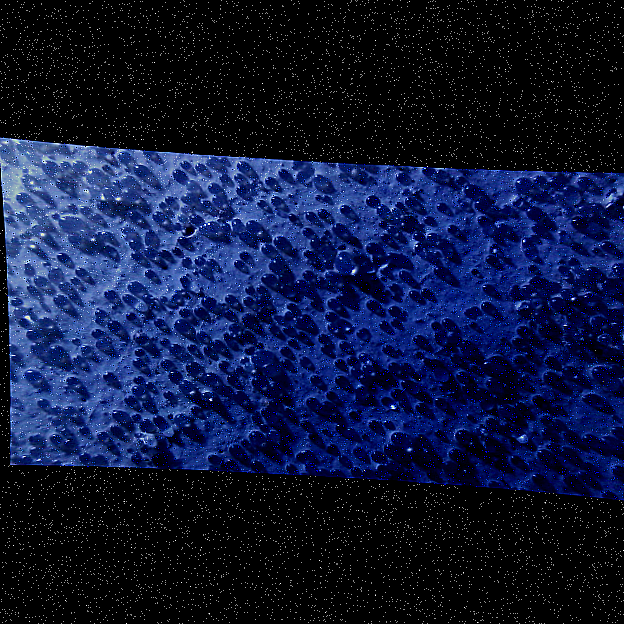GrassBeadSeg: (226, 215, 247, 243), (578, 307, 596, 337), (47, 460, 68, 485), (571, 277, 591, 302), (32, 205, 50, 232), (483, 583, 500, 611), (447, 225, 466, 250), (359, 69, 377, 95), (548, 224, 566, 249), (177, 321, 195, 345), (512, 357, 530, 381), (405, 23, 423, 47), (254, 352, 274, 373), (224, 169, 242, 191), (494, 532, 512, 554), (177, 172, 195, 194), (249, 450, 266, 473), (161, 190, 178, 213), (223, 478, 240, 501), (108, 342, 124, 366), (436, 569, 452, 593), (270, 297, 286, 321), (76, 557, 92, 581), (369, 179, 386, 201), (420, 87, 437, 109), (266, 28, 283, 50), (450, 192, 467, 214), (570, 428, 586, 451), (154, 569, 170, 592), (244, 402, 260, 425), (534, 515, 550, 538), (221, 60, 237, 83), (461, 142, 477, 165), (310, 347, 328, 367), (539, 176, 557, 196), (11, 162, 28, 183), (358, 162, 375, 183), (559, 44, 576, 65), (290, 127, 307, 148), (590, 80, 607, 101), (575, 217, 592, 238), (181, 470, 198, 491), (118, 573, 134, 595), (205, 139, 221, 161), (590, 597, 605, 620), (432, 333, 449, 353), (340, 449, 356, 470), (481, 300, 497, 321), (238, 434, 253, 456), (237, 63, 252, 85), (549, 328, 566, 347), (240, 160, 257, 179), (392, 228, 409, 247), (103, 598, 119, 618), (504, 214, 520, 234), (237, 376, 253, 396), (299, 335, 315, 355), (216, 293, 232, 313), (427, 267, 443, 287), (298, 308, 313, 329), (87, 266, 102, 287), (539, 595, 554, 616), (307, 483, 322, 504), (127, 9, 142, 30), (341, 542, 355, 564), (537, 97, 551, 119), (416, 281, 432, 300), (299, 389, 315, 408), (495, 401, 511, 420), (163, 526, 179, 545), (382, 271, 397, 291), (110, 486, 125, 506), (413, 51, 428, 71), (39, 311, 54, 331), (35, 568, 50, 588), (154, 153, 169, 173), (519, 104, 534, 124), (522, 227, 537, 247), (217, 596, 231, 617), (498, 330, 512, 351), (152, 275, 166, 296), (529, 578, 543, 599), (504, 246, 520, 264), (268, 370, 284, 388), (496, 60, 509, 82), (338, 336, 353, 355), (85, 328, 100, 347), (382, 138, 397, 157), (405, 410, 420, 429), (581, 146, 596, 165), (398, 476, 413, 495), (62, 576, 77, 595), (291, 580, 306, 599), (555, 294, 570, 313), (350, 524, 365, 543), (149, 90, 164, 109), (203, 274, 217, 294), (422, 204, 436, 224), (133, 486, 147, 506), (113, 243, 127, 263), (376, 509, 390, 529), (110, 140, 123, 161), (91, 90, 104, 111), (146, 225, 159, 246), (137, 194, 150, 215), (522, 380, 538, 397), (448, 346, 463, 364), (410, 309, 425, 327), (428, 184, 443, 202), (596, 355, 610, 374), (447, 515, 461, 534), (170, 303, 184, 322), (188, 551, 202, 570), (497, 503, 511, 522), (198, 303, 212, 322), (501, 307, 515, 326), (466, 500, 480, 519), (446, 544, 460, 563), (357, 214, 370, 234), (315, 607, 331, 623), (144, 175, 159, 192), (280, 507, 295, 524), (370, 400, 384, 418), (22, 348, 36, 366), (243, 571, 257, 589), (490, 17, 504, 35), (179, 518, 193, 536), (201, 35, 215, 53), (400, 151, 414, 169), (55, 433, 69, 451), (108, 556, 122, 574), (110, 432, 124, 450), (379, 545, 393, 563), (241, 130, 255, 148), (515, 74, 529, 92), (539, 541, 553, 559), (351, 51, 363, 72), (201, 332, 214, 351), (110, 197, 123, 216), (488, 382, 501, 401), (454, 440, 468, 457), (169, 487, 183, 504), (477, 279, 491, 296), (252, 235, 266, 252), (124, 417, 138, 434), (221, 8, 235, 25), (591, 332, 605, 349), (43, 396, 56, 414), (293, 514, 306, 532), (451, 381, 464, 399), (418, 495, 431, 513), (277, 390, 290, 408), (336, 99, 349, 117), (46, 538, 59, 556), (295, 47, 308, 65), (254, 381, 267, 399), (15, 42, 28, 60), (189, 605, 202, 623), (168, 552, 181, 570), (339, 36, 350, 57), (277, 136, 289, 155), (22, 446, 34, 465), (418, 240, 430, 259), (11, 504, 23, 523), (72, 253, 87, 268), (187, 243, 201, 259), (268, 268, 282, 284), (448, 120, 462, 136), (192, 529, 206, 545), (595, 0, 609, 16), (105, 288, 118, 305), (278, 476, 291, 493), (306, 184, 319, 201), (408, 538, 421, 555), (218, 331, 231, 348), (248, 534, 261, 551), (156, 302, 169, 319), (25, 270, 38, 287), (285, 454, 298, 471), (215, 550, 228, 567), (526, 276, 539, 293), (493, 170, 506, 187), (232, 333, 245, 350), (546, 426, 559, 443), (518, 23, 531, 40), (299, 289, 312, 306), (60, 370, 72, 388), (60, 8, 72, 26), (259, 307, 271, 325), (290, 266, 304, 281), (256, 279, 270, 294), (524, 315, 538, 330), (598, 474, 612, 489), (560, 406, 574, 421), (333, 371, 344, 390), (318, 222, 329, 241), (333, 208, 344, 227), (349, 200, 360, 219), (281, 184, 294, 200), (500, 599, 513, 615), (210, 405, 223, 421), (559, 477, 572, 493), (83, 504, 96, 520), (253, 212, 266, 228), (427, 592, 440, 608), (381, 79, 394, 95), (16, 20, 29, 36), (396, 607, 409, 623), (216, 460, 229, 476), (216, 422, 228, 439), (257, 589, 269, 606), (392, 367, 404, 384), (601, 390, 613, 407), (321, 46, 333, 63), (63, 218, 75, 235), (271, 92, 283, 109), (361, 486, 373, 503), (574, 11, 586, 28), (172, 258, 184, 275), (478, 245, 490, 262), (391, 10, 403, 27), (316, 522, 326, 542), (345, 362, 356, 380), (360, 327, 371, 345), (311, 253, 322, 271), (352, 250, 363, 268), (330, 231, 341, 249), (350, 147, 361, 165), (312, 420, 323, 438), (0, 306, 13, 321), (586, 485, 599, 500), (241, 280, 254, 295), (102, 325, 115, 340), (132, 279, 144, 295), (157, 443, 169, 459), (50, 157, 62, 173), (361, 304, 373, 320), (102, 125, 114, 141), (55, 199, 67, 215), (600, 515, 612, 531), (51, 575, 63, 591), (527, 539, 539, 555), (290, 380, 302, 396), (216, 266, 228, 282), (293, 246, 305, 262), (75, 432, 87, 448), (397, 511, 408, 528), (200, 476, 211, 493), (386, 479, 398, 494), (279, 433, 291, 448), (318, 118, 330, 133), (499, 132, 511, 147), (532, 474, 544, 489), (112, 410, 124, 425), (521, 428, 533, 443), (123, 325, 135, 340), (83, 168, 94, 184), (23, 112, 34, 128), (351, 299, 362, 315), (305, 89, 316, 105), (165, 110, 176, 126), (87, 445, 98, 461), (297, 152, 307, 169), (214, 577, 227, 590), (111, 165, 123, 179), (200, 574, 212, 588), (353, 407, 365, 421), (487, 255, 499, 269), (264, 503, 275, 518), (220, 355, 231, 370), (591, 165, 602, 180), (307, 218, 318, 233), (7, 268, 18, 283), (409, 604, 420, 619), (162, 507, 173, 522), (15, 333, 26, 348), (604, 20, 615, 35), (108, 11, 119, 26), (109, 529, 120, 544), (174, 405, 184, 421), (371, 219, 381, 235), (321, 205, 331, 221), (554, 101, 564, 117), (234, 112, 244, 128), (47, 99, 57, 115), (140, 137, 150, 153), (201, 173, 211, 189), (163, 594, 173, 610), (15, 244, 25, 260), (79, 235, 89, 251), (129, 88, 139, 104), (260, 255, 272, 268), (8, 475, 20, 488), (261, 327, 272, 341), (493, 428, 504, 442), (272, 220, 283, 234), (354, 475, 365, 489), (351, 103, 362, 117), (254, 118, 265, 132), (60, 63, 71, 77), (429, 548, 440, 562), (510, 157, 521, 171), (5, 289, 16, 303), (279, 68, 288, 85), (74, 8, 83, 25), (35, 44, 44, 61), (120, 116, 129, 133), (194, 201, 203, 218), (68, 492, 78, 507), (388, 456, 398, 471), (471, 540, 481, 555), (580, 110, 590, 125), (563, 123, 573, 138), (516, 597, 526, 612), (616, 165, 624, 183), (319, 6, 328, 22), (182, 16, 191, 32), (77, 52, 86, 68), (118, 79, 127, 95), (436, 310, 447, 323), (139, 418, 150, 431), (598, 557, 608, 571), (589, 466, 599, 480), (615, 426, 624, 441), (552, 1, 561, 16), (608, 244, 617, 259), (528, 337, 537, 352), (593, 113, 604, 125), (43, 346, 54, 358), (3, 424, 13, 437), (287, 415, 297, 428), (67, 451, 77, 464), (616, 72, 624, 88), (501, 108, 510, 122), (536, 51, 545, 65), (455, 42, 464, 56), (1, 197, 10, 211), (532, 216, 541, 230), (615, 326, 624, 340), (55, 355, 65, 367), (449, 83, 457, 98), (426, 18, 434, 33), (19, 220, 27, 235), (405, 288, 413, 303), (545, 377, 553, 392), (159, 491, 167, 505), (390, 51, 398, 65), (450, 0, 458, 14), (532, 32, 540, 46), (472, 51, 480, 65), (286, 1, 294, 15), (257, 7, 265, 21), (199, 11, 207, 25), (48, 38, 56, 52), (8, 6, 16, 20), (122, 154, 130, 168), (184, 129, 192, 143), (138, 242, 146, 256), (114, 219, 122, 233), (139, 327, 147, 341), (178, 387, 186, 401), (186, 405, 194, 419), (126, 378, 134, 392), (78, 481, 86, 495), (211, 486, 219, 500), (236, 528, 244, 542), (381, 364, 389, 378), (402, 305, 410, 319), (477, 156, 485, 170), (565, 241, 573, 255), (611, 272, 619, 286), (610, 308, 618, 322), (535, 300, 543, 314), (538, 411, 546, 425), (476, 380, 484, 394), (79, 292, 87, 306), (532, 444, 540, 458), (229, 248, 239, 259), (528, 410, 537, 422), (363, 376, 370, 391), (344, 386, 351, 401), (401, 92, 409, 105), (353, 27, 361, 40), (331, 7, 339, 20), (301, 3, 309, 16), (86, 34, 94, 47), (110, 92, 118, 105), (176, 140, 184, 153), (162, 406, 170, 419), (152, 425, 160, 438), (141, 513, 149, 526), (154, 473, 162, 486), (178, 593, 186, 606), (219, 235, 227, 248), (577, 528, 585, 541), (567, 554, 575, 567), (159, 368, 166, 382), (481, 204, 488, 218), (605, 447, 612, 461), (490, 479, 497, 493), (440, 417, 448, 429), (0, 466, 8, 478), (328, 171, 336, 183), (308, 30, 315, 43), (213, 52, 220, 65), (89, 68, 96, 81), (165, 234, 172, 247), (158, 217, 165, 230), (90, 577, 97, 590), (128, 457, 135, 470), (148, 525, 155, 538), (299, 546, 306, 559), (329, 281, 336, 294), (285, 336, 292, 349), (443, 180, 450, 193), (437, 224, 444, 237), (419, 170, 426, 183), (408, 182, 415, 195), (570, 325, 577, 338), (581, 552, 588, 565), (555, 551, 562, 564), (519, 568, 526, 581), (506, 573, 513, 586), (291, 547, 299, 558), (367, 513, 375, 524), (211, 197, 218, 209), (219, 203, 226, 215), (216, 215, 223, 227), (180, 232, 187, 244), (353, 500, 360, 512), (233, 358, 240, 370), (458, 170, 465, 182), (616, 483, 623, 495), (497, 488, 504, 500), (299, 480, 307, 490), (369, 542, 377, 552), (372, 596, 379, 607), (364, 360, 371, 371), (366, 530, 373, 540), (292, 84, 298, 95), (361, 441, 367, 452), (356, 366, 362, 377), (553, 469, 559, 480), (535, 430, 541, 441), (316, 87, 322, 97), (143, 99, 149, 109), (42, 479, 48, 489), (29, 474, 35, 484), (32, 383, 38, 393), (594, 219, 600, 229), (506, 87, 512, 96), (208, 262, 214, 271), (110, 581, 116, 590), (91, 538, 97, 547), (24, 593, 30, 602), (54, 326, 60, 335), (353, 395, 359, 404), (248, 305, 254, 314), (233, 314, 239, 323), (613, 218, 619, 227), (523, 502, 529, 511), (93, 309, 99, 318), (331, 80, 336, 90), (232, 86, 237, 96), (46, 62, 51, 72), (38, 2, 43, 12), (37, 105, 42, 115), (56, 239, 61, 249), (156, 325, 161, 335), (105, 461, 110, 471), (13, 437, 18, 447), (42, 592, 47, 602), (468, 194, 473, 204), (459, 471, 465, 479), (491, 464, 497, 472), (482, 557, 488, 565), (364, 23, 369, 32), (224, 107, 229, 116), (61, 106, 66, 115), (24, 5, 29, 14), (199, 266, 204, 275), (158, 348, 163, 357), (19, 564, 24, 573), (18, 547, 23, 556), (16, 610, 21, 619), (0, 603, 5, 612), (297, 469, 302, 478), (385, 249, 390, 258), (299, 421, 304, 430), (487, 217, 492, 226), (393, 571, 398, 580), (126, 543, 131, 551), (270, 607, 275, 615), (344, 593, 349, 601), (376, 568, 381, 576), (407, 451, 412, 459), (436, 519, 441, 527), (466, 118, 470, 127), (433, 131, 437, 140), (486, 565, 490, 574), (315, 597, 320, 604), (565, 152, 569, 160), (576, 131, 580, 139), (513, 133, 517, 141), (370, 14, 374, 22), (388, 568, 392, 576), (100, 554, 104, 561), (227, 117, 231, 123), (115, 61, 119, 67), (123, 57, 127, 63), (407, 258, 411, 264), (172, 387, 176, 392), (89, 428, 93, 433), (443, 117, 446, 123), (144, 128, 147, 134), (113, 47, 116, 53), (181, 423, 184, 429), (76, 518, 79, 524), (229, 556, 232, 562), (233, 578, 236, 584), (236, 572, 239, 578), (367, 254, 370, 260), (410, 262, 413, 268), (468, 288, 471, 294), (82, 452, 85, 458), (443, 94, 446, 99), (441, 111, 444, 116), (48, 141, 51, 146), (165, 382, 168, 387), (108, 451, 111, 456), (111, 469, 114, 474), (43, 379, 46, 384), (58, 504, 61, 509), (16, 384, 19, 389), (197, 495, 200, 500), (200, 513, 203, 518), (237, 578, 240, 583), (255, 516, 258, 521), (374, 332, 377, 337), (154, 349, 157, 354), (147, 328, 150, 333), (49, 151, 52, 155), (34, 91, 37, 95), (33, 85, 35, 89)
